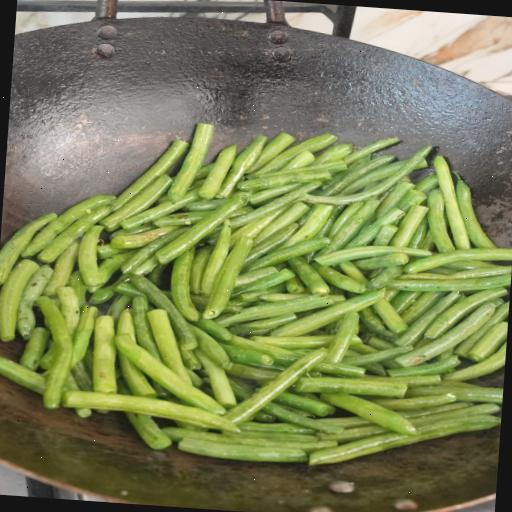buncis_rebus: (0, 103, 512, 488)
